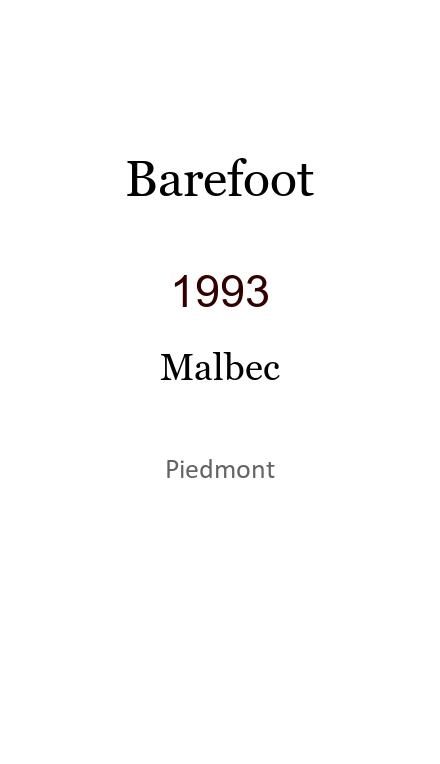brand: (125, 150, 314, 188)
region: (165, 457, 275, 476)
variety: (160, 346, 280, 374)
vintage: (170, 266, 270, 298)
